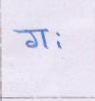aa_matra: (41, 31, 46, 47)
